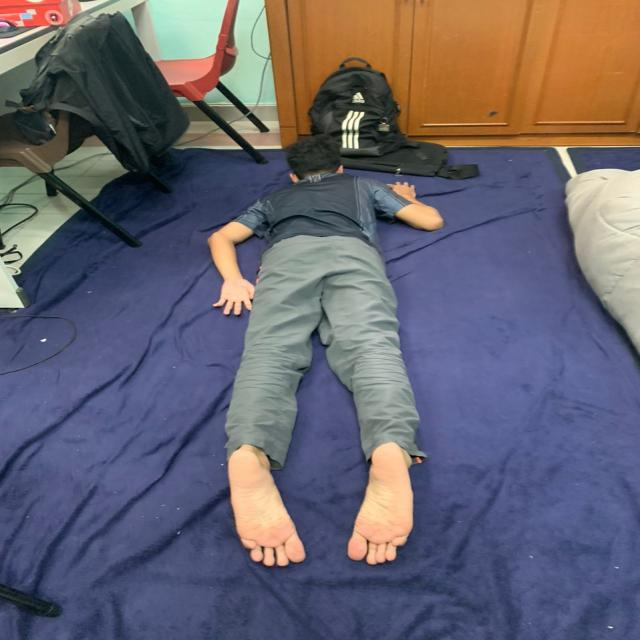fall: (202, 138, 444, 570)
